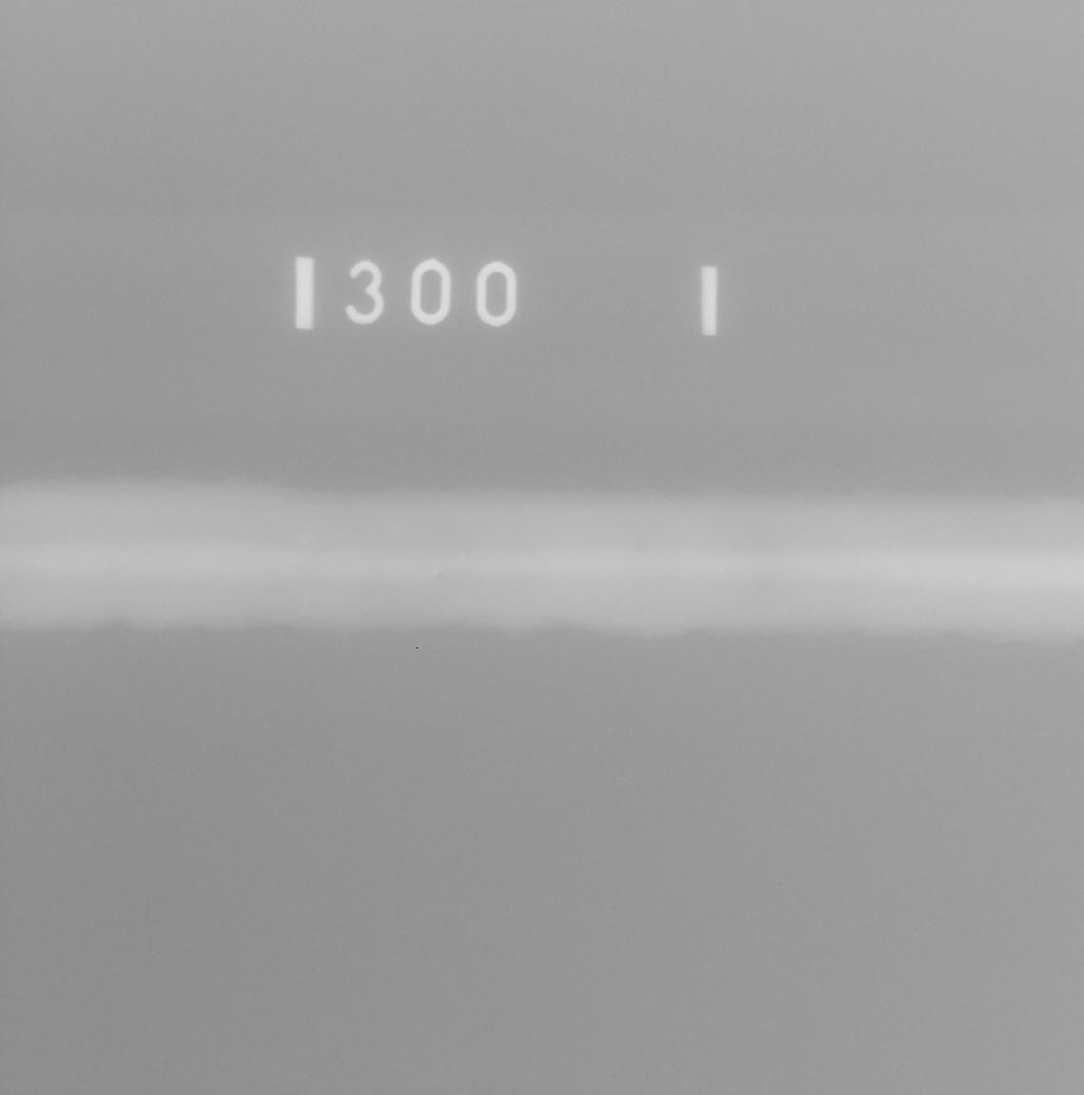Pore/Porosity: (435, 572, 447, 582)
